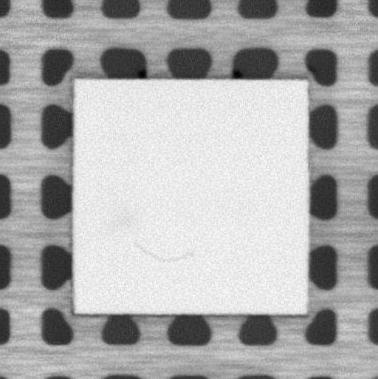DIE_CRACK: (133, 242, 196, 263)
